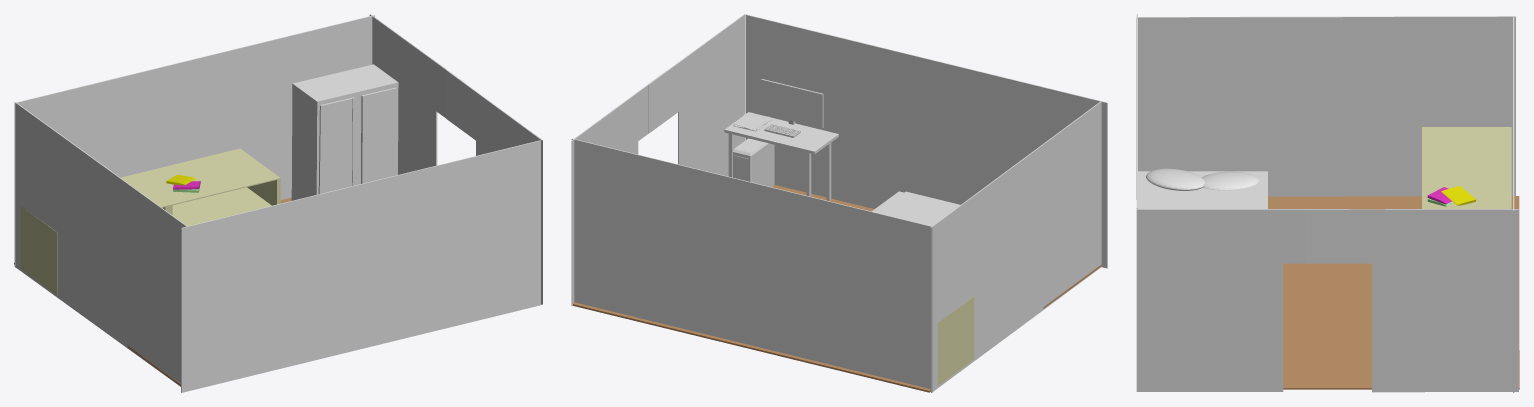
The model's file is Computer.fbx.
3 renders of one model, left to right at view 1: azimuth 30°, elevation 25°; view 2: azimuth 150°, elevation 25°; view 3: azimuth 270°, elevation 25°, orthographic. The views are drawn at different scales.
Visible parts, largest first — view 1: Cube.023, Cube.002, Cube.003, Cube.057, Cube.006, Cube.060, Cube.001, Cube.004; view 2: Cube.002, Cube.023, Cube.003, Cube.001, Cube.017, Cube.060, Cube.006, Cube.041, Cube.005; view 3: Cube.003, Cube.060, Cube.001, Cube.041, Cube.006, Cube.005, Sphere, Sphere.001, Cube.002, Cube.004, Cube, Cube.023.
Part boxes in pixels (x1,y1,x2,y2): Cube.023: [181, 140, 540, 392]; Cube.002: [15, 15, 374, 267]; Cube.003: [14, 102, 188, 391]; Cube.057: [291, 64, 398, 200]; Cube.006: [20, 148, 280, 294]; Cube.060: [369, 14, 466, 174]; Cube.001: [446, 70, 542, 304]; Cube.004: [166, 174, 200, 192]; Cube.002: [571, 138, 933, 392]; Cube.023: [746, 14, 1107, 268]; Cube.003: [930, 101, 1101, 392]; Cube.001: [648, 14, 745, 176]; Cube.017: [724, 79, 838, 200]; Cube.060: [571, 70, 666, 306]; Cube.006: [937, 296, 974, 385]; Cube.041: [573, 185, 1101, 392]; Cube.005: [877, 191, 959, 225]; Cube.003: [1136, 16, 1515, 199]; Cube.060: [1306, 209, 1518, 392]; Cube.001: [1136, 209, 1349, 391]; Cube.041: [1268, 196, 1519, 389]; Cube.006: [1422, 127, 1511, 208]; Cube.005: [1145, 171, 1260, 208]; Sphere: [1146, 168, 1204, 190]; Sphere.001: [1202, 171, 1259, 190]; Cube.002: [1513, 16, 1514, 392]; Cube.004: [1427, 186, 1476, 206]; Cube: [1138, 171, 1267, 208]; Cube.023: [1136, 14, 1137, 208].
Size of the model in its own units: 3229 by 1404 by 2660.
